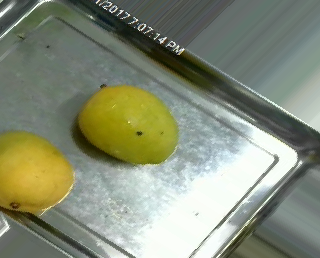Mango: (78, 87, 180, 163), (0, 132, 75, 213)
